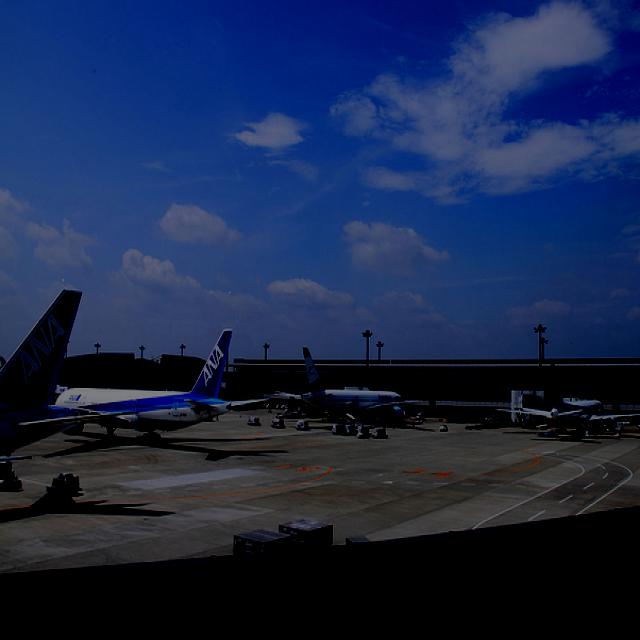Vehicle: (46, 472, 82, 496), (0, 469, 21, 490), (294, 421, 308, 430), (415, 412, 425, 420), (440, 424, 448, 432)
